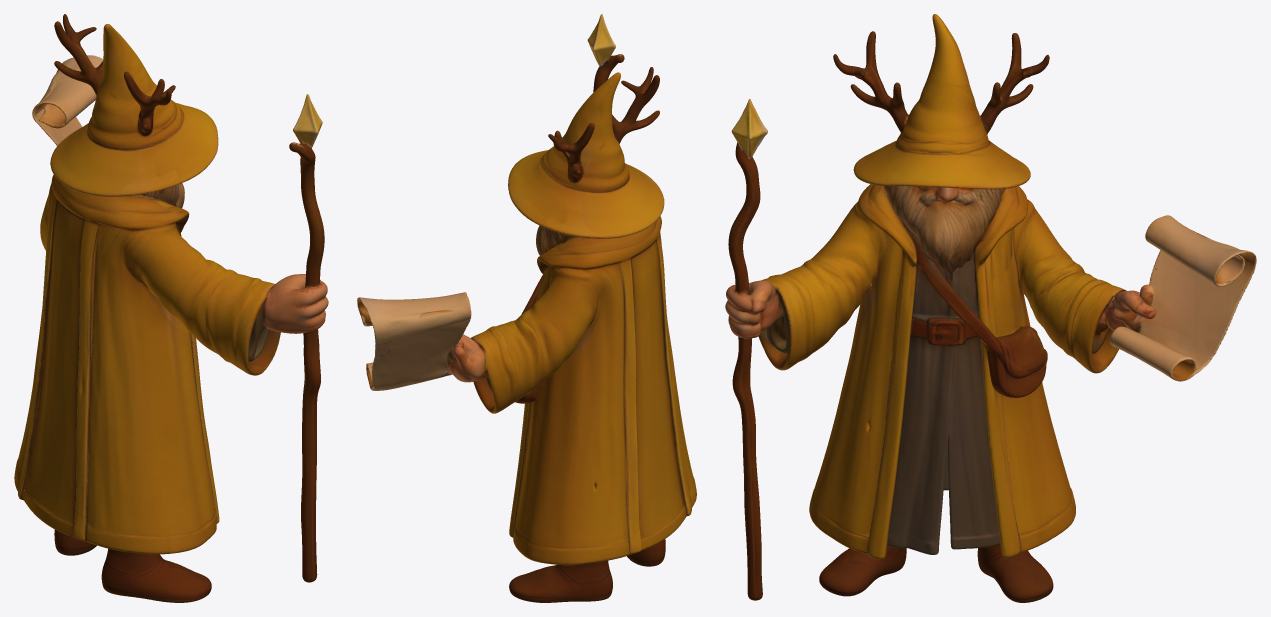
File: Orange-Necromancer-figure.glb
3 views of the same model, side by side, from view 1: azimuth 30°, elevation 25°; view 2: azimuth 150°, elevation 25°; view 3: azimuth 270°, elevation 25° (orthographic). The views are drawn at different scales.
Parts seen in each view (by area): view 1: tripo_node_c0bcbe53-87f3-470b-9187-14668362fa7a; view 2: tripo_node_c0bcbe53-87f3-470b-9187-14668362fa7a; view 3: tripo_node_c0bcbe53-87f3-470b-9187-14668362fa7a.
Part boxes in pixels (x1=…): tripo_node_c0bcbe53-87f3-470b-9187-14668362fa7a: x1=14, y1=14, x2=328, y2=602; tripo_node_c0bcbe53-87f3-470b-9187-14668362fa7a: x1=357, y1=14, x2=696, y2=602; tripo_node_c0bcbe53-87f3-470b-9187-14668362fa7a: x1=725, y1=14, x2=1256, y2=602.
Bounding box in the file's own units: 0.4145 × 1 × 0.865.
1 material, 1 textured.
